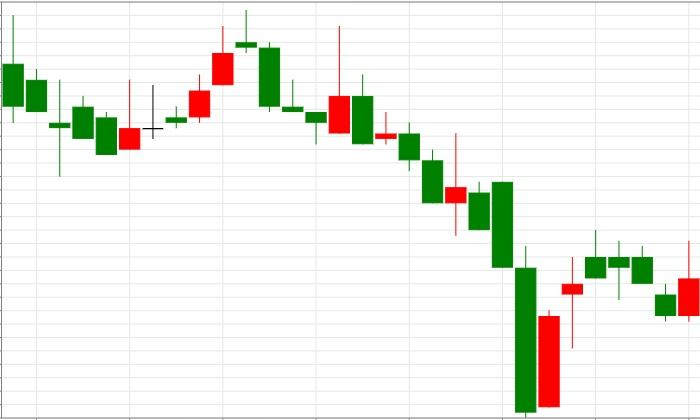bullish_engulfing_rise: (584, 230, 700, 322)
evening_star_fall: (119, 10, 281, 150)
